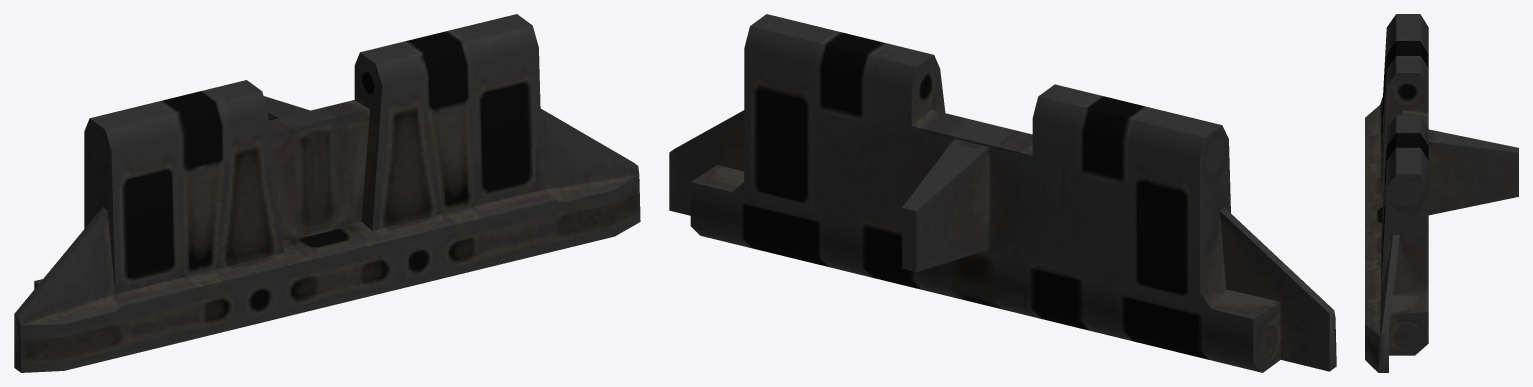
The picture shows the model from 3 angles, left to right: view 1: azimuth 30°, elevation 25°; view 2: azimuth 150°, elevation 25°; view 3: azimuth 270°, elevation 25°; orthographic projection. The views are drawn at different scales.
Parts seen in each view (by area): view 1: set_0_group_0; view 2: set_0_group_0; view 3: set_0_group_0.
Boxes of the visible parts, <box> form: set_0_group_0: <box>14,14,640,372</box>; set_0_group_0: <box>669,14,1336,372</box>; set_0_group_0: <box>1365,14,1518,372</box>.
Size of the model in its own units: 0.6096 by 0.1988 by 0.1704.
Materials: 1 (1 with a texture image).
